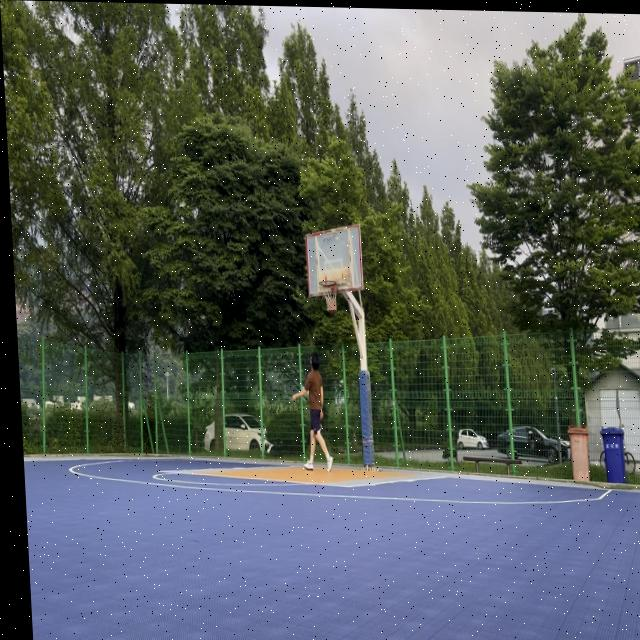basketball: (328, 301, 336, 316)
hoop: (319, 280, 339, 316), (319, 280, 339, 312)
